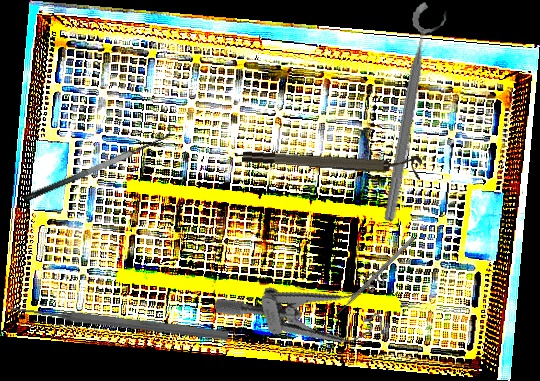Fixation Ring: (376, 0, 452, 226), (241, 140, 423, 181)
Pusher: (9, 301, 230, 343), (328, 236, 415, 324)
Spatula Surgical: (17, 122, 177, 203)
Speculum: (213, 257, 402, 375)
